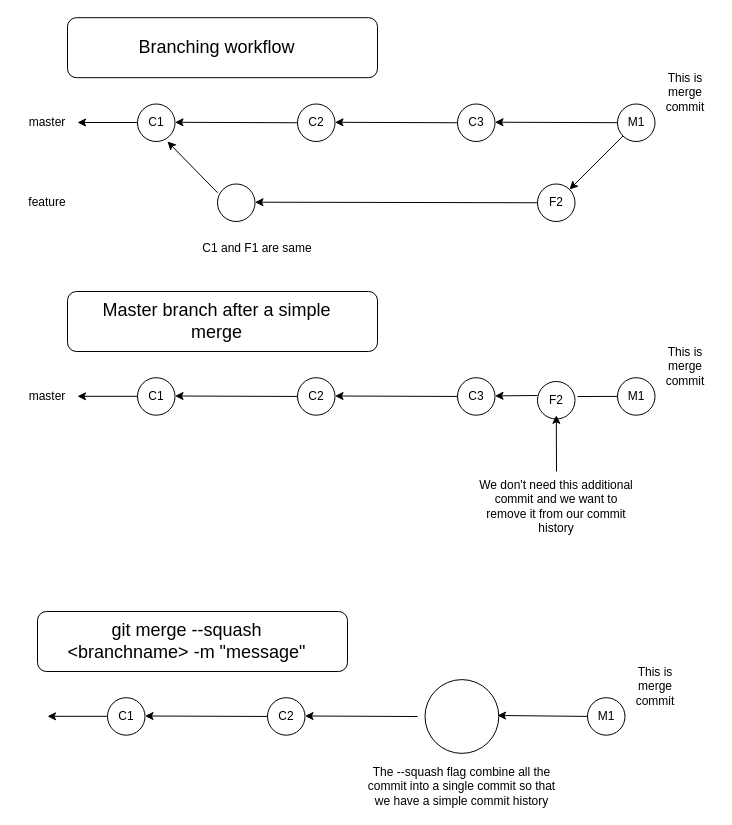
This 732x825 diagram has some shape labels left out. The centre of each missing label's shape, as x and y in pixels:
"C3 + F2" goes at pixel 461 716.
"F1" goes at pixel 235 202.
